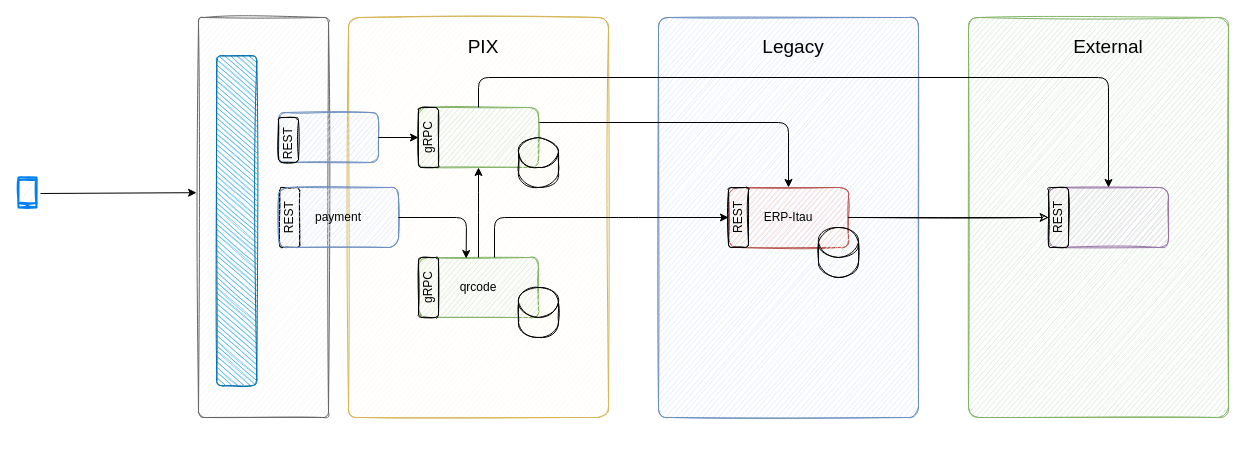
This 1246x450 diagram has some shape labels left out. Here are the shapes that lost their labels. From the top down, the box of each, then its label:
(278, 112, 378, 162): register
(418, 106, 538, 168): key-manager
(216, 55, 257, 386): API Gateway
(1048, 186, 1168, 248): bcb
